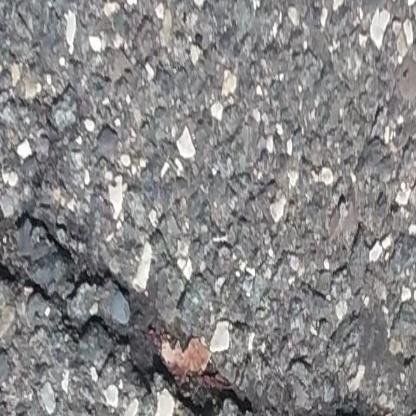Cracks: (0, 105, 416, 416)
